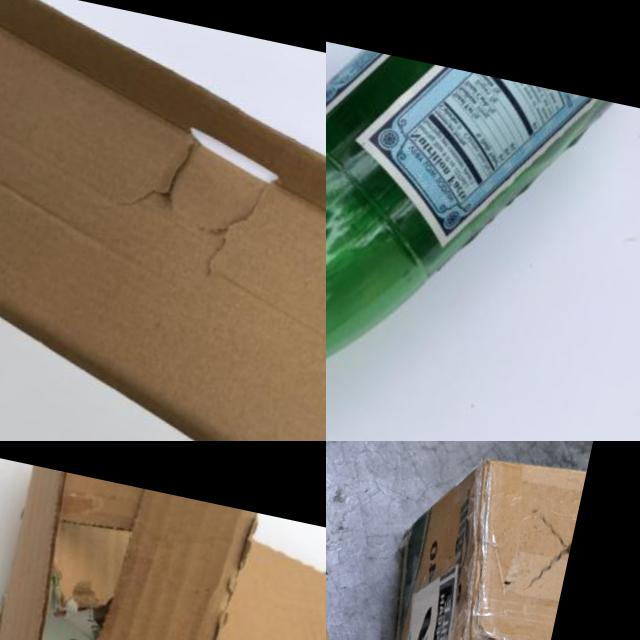garrafa de vidro: (326, 0, 617, 441)
papelão: (0, 0, 326, 441), (0, 458, 326, 640), (344, 441, 586, 640), (326, 441, 465, 640)
